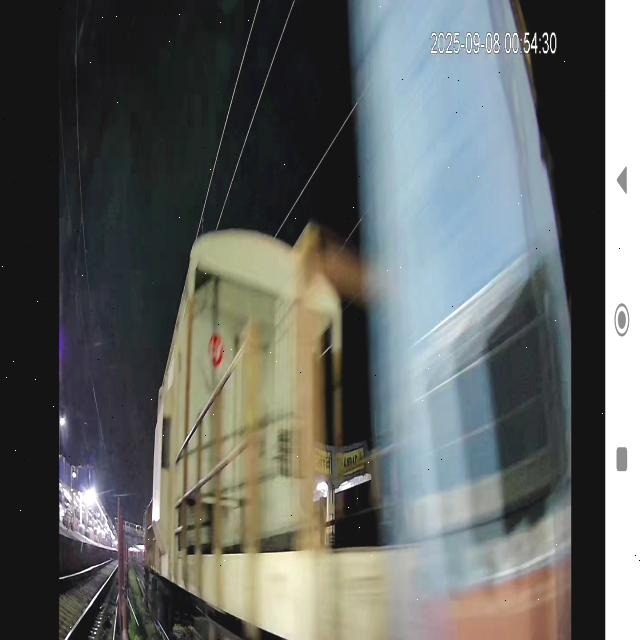brakevan: (134, 0, 346, 640)
